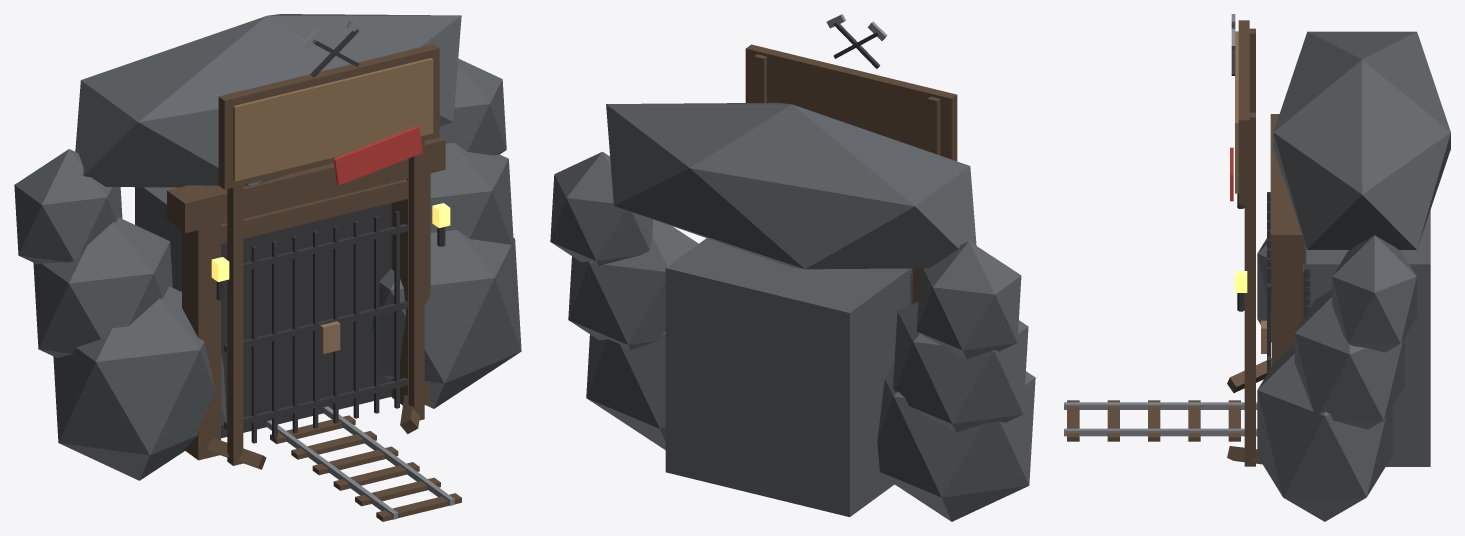
The model's file is mine_portal.glb.
3 renders of one model, left to right at view 1: azimuth 30°, elevation 25°; view 2: azimuth 150°, elevation 25°; view 3: azimuth 270°, elevation 25°, orthographic. The views are drawn at different scales.
Visible parts, largest first — view 1: mine_portal; view 2: mine_portal; view 3: mine_portal.
Part boxes in pixels (box(x1,y1,x2,y2)): mine_portal: box(14, 14, 521, 521); mine_portal: box(550, 14, 1035, 521); mine_portal: box(1064, 14, 1450, 521).
Bounding box in the file's own units: 8.55 × 7.68 × 6.23.
